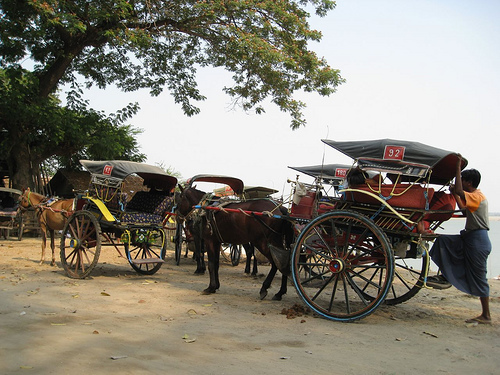horse: (174, 179, 297, 303), (13, 184, 82, 269)
